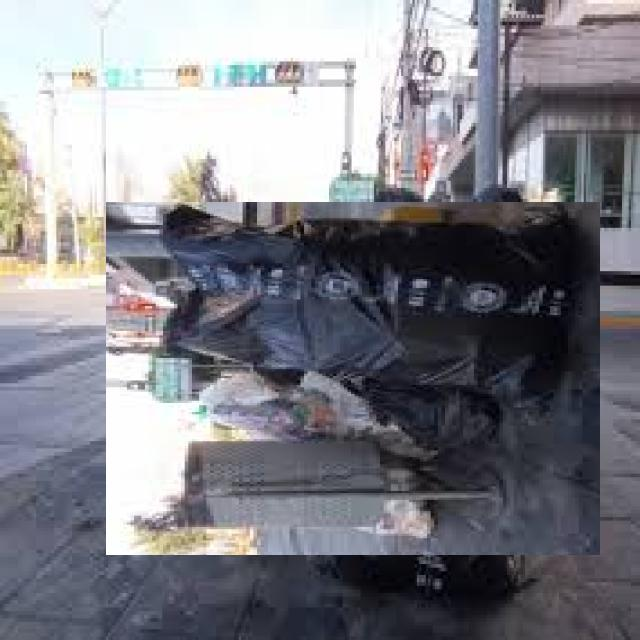garbage: (141, 166, 565, 590)
